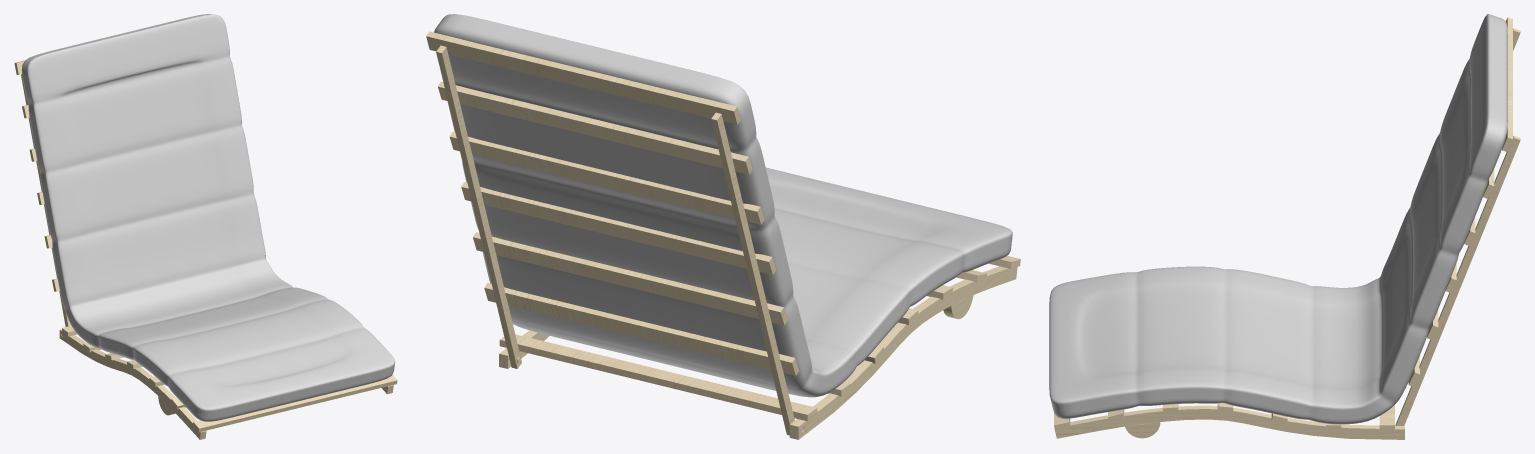
Rendered from Grankulla_Futon_Armchair-3D.DAE.
3 views of the same model, side by side, from view 1: azimuth 30°, elevation 25°; view 2: azimuth 150°, elevation 25°; view 3: azimuth 270°, elevation 25° (orthographic). The views are drawn at different scales.
Parts seen in each view (by area): view 1: Box02, Arc02; view 2: Box02, Arc02; view 3: Box02, Arc02.
Boxes of the visible parts, x1,y1,x2,y2 form: Box02: (21,14,395,421); Arc02: (14,60,397,439); Box02: (434,14,1012,397); Arc02: (426,31,1020,439); Box02: (1049,14,1507,424); Arc02: (1054,17,1520,439).
Size of the model in its own units: 706 by 861 by 1162.
